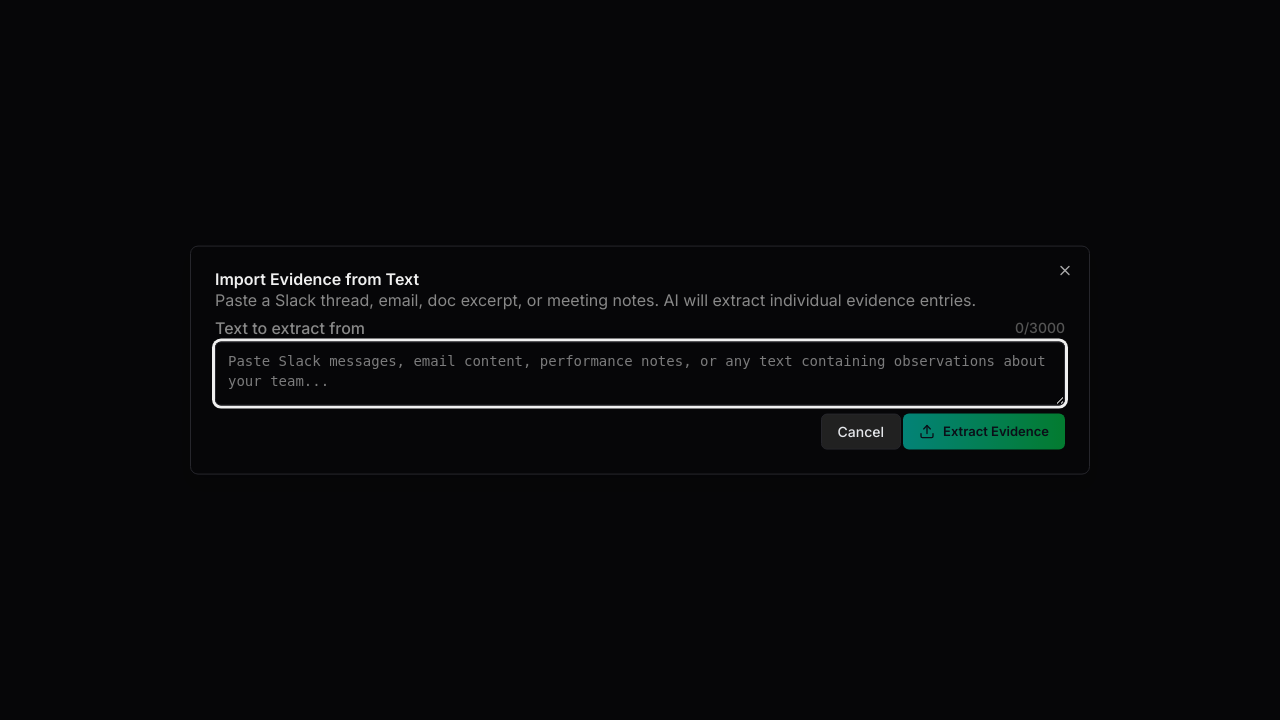
Scenario: BatchEvidenceImportModal › shows select all and deselect all buttons in preview
The width and height of the screenshot is (1280, 720).
Replace the text in the text box with placeholder "Paste Slack messages" with "Notes." at (640, 373), box x1=215 y1=341 x2=1065 y2=405
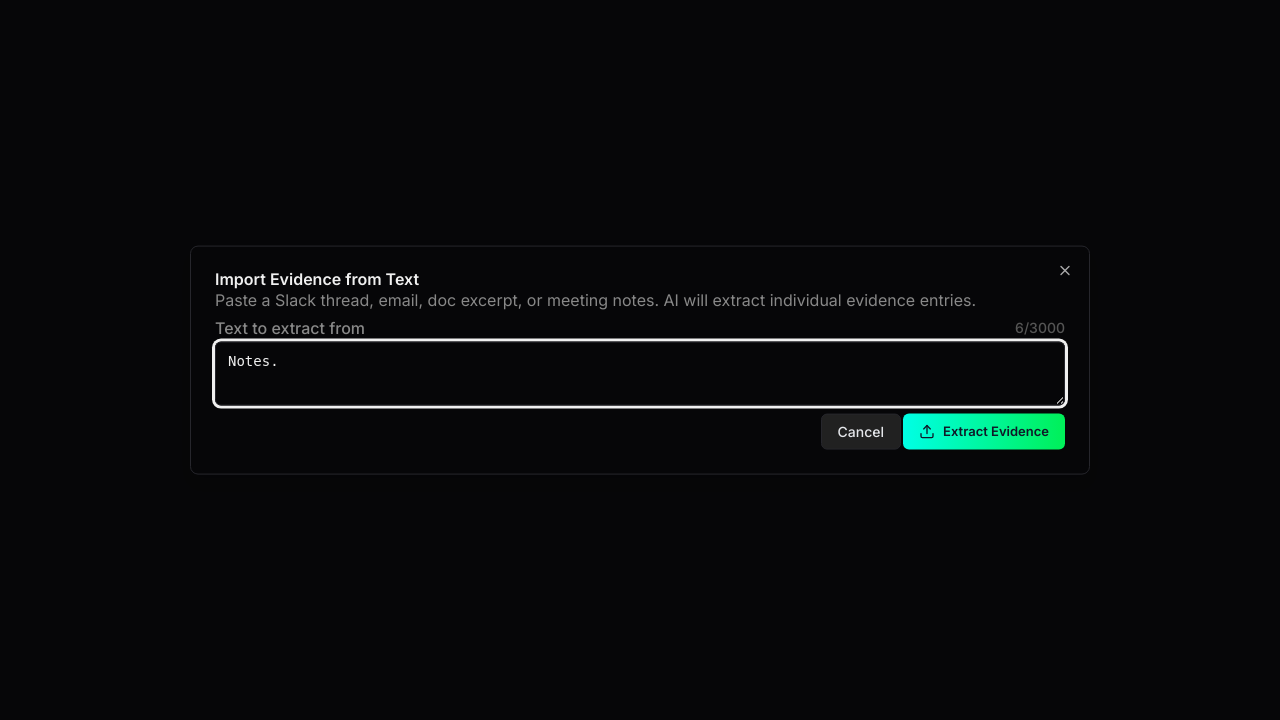
Click the button "Extract Evidence" at (984, 431), box x1=903 y1=413 x2=1065 y2=449
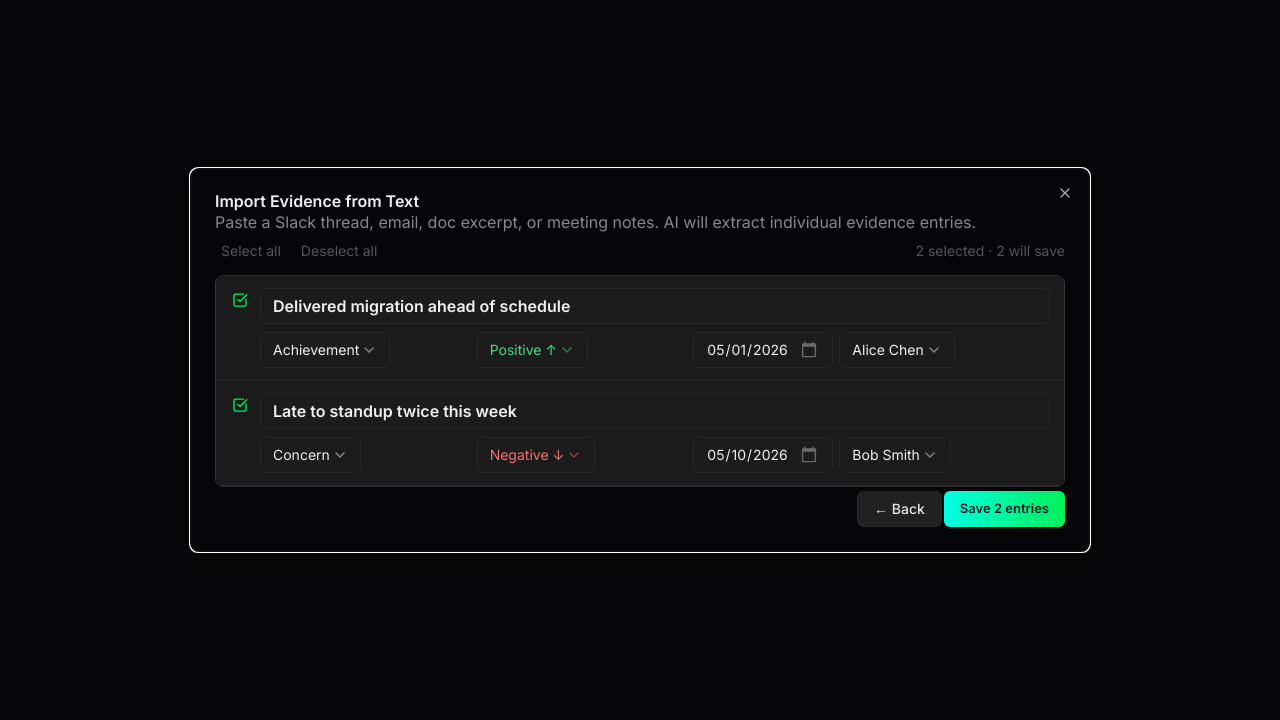
Expected: the button "Select all" is shown, x1=215 y1=238 x2=287 y2=263
Expected: the button "Deselect all" is shown, x1=295 y1=238 x2=383 y2=263
